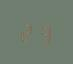nine: (36, 20, 52, 45)
two: (19, 18, 35, 43)
